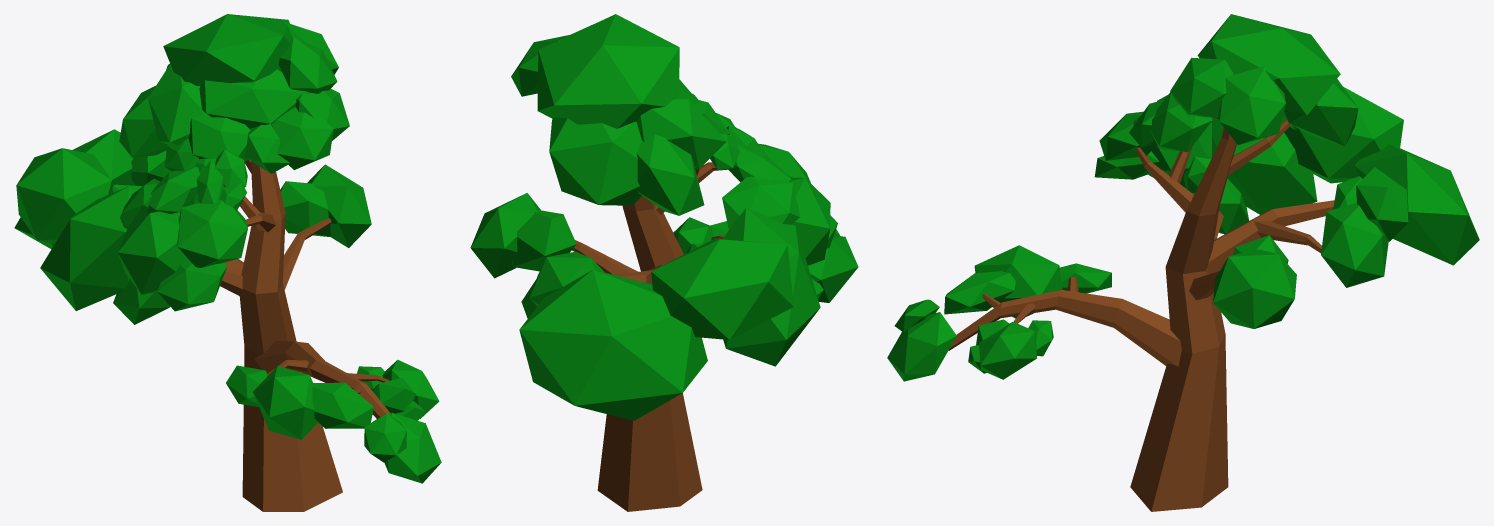
File: StartTree.fbx
3 renders of one model, left to right at view 1: azimuth 30°, elevation 25°; view 2: azimuth 150°, elevation 25°; view 3: azimuth 270°, elevation 25°, orthographic. The views are drawn at different scales.
Visible parts, largest first — view 1: Cylinder.001; view 2: Cylinder.001; view 3: Cylinder.001.
Part boxes in pixels (x1=…): Cylinder.001: x1=14, y1=14, x2=441, y2=511; Cylinder.001: x1=470, y1=14, x2=858, y2=511; Cylinder.001: x1=887, y1=14, x2=1479, y2=511.
Bounding box in the file's own units: 862 × 1199 × 1408.
